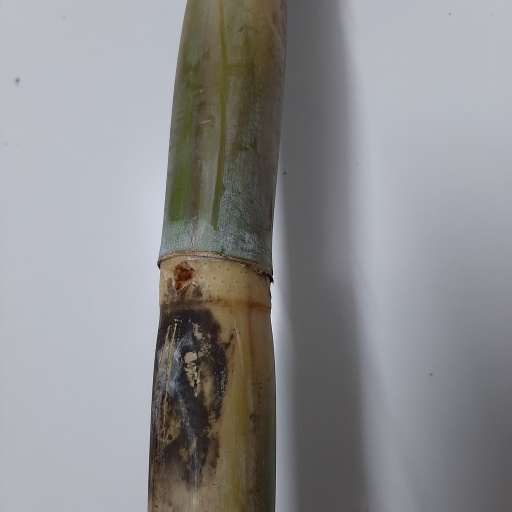Damage_Bud: (172, 260, 195, 293)
